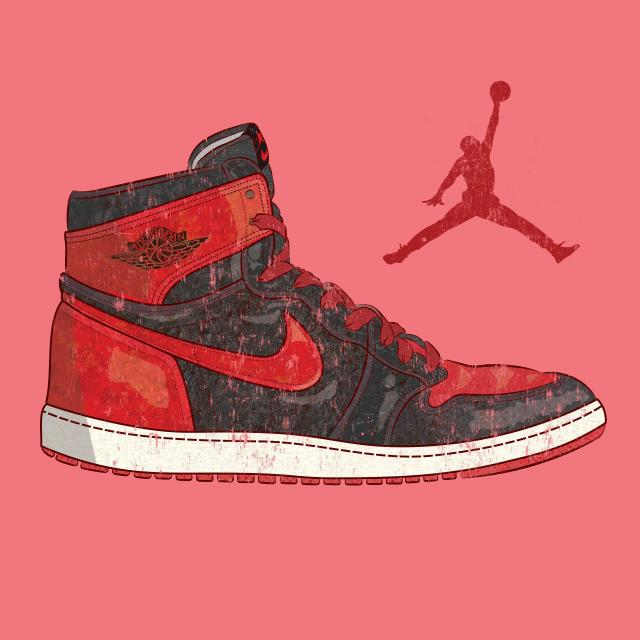shoe: (36, 156, 596, 533)
